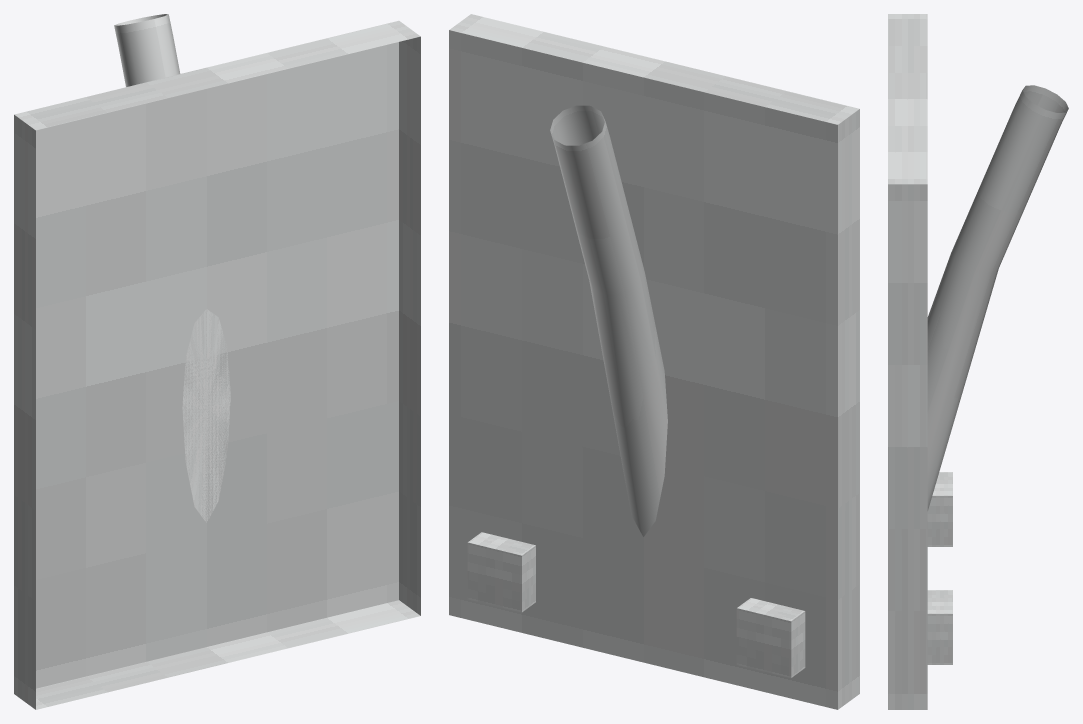
File: luminairearm_laupsweep8ft_c1_wall.obj
3 renders of one model, left to right at view 1: azimuth 30°, elevation 25°; view 2: azimuth 150°, elevation 25°; view 3: azimuth 270°, elevation 25°, orthographic. The views are drawn at different scales.
Visible parts, largest first — view 1: luminairearm_laupsweep8ft_c1_wall; view 2: luminairearm_laupsweep8ft_c1_wall; view 3: luminairearm_laupsweep8ft_c1_wall.
Boxes of the visible parts, box(x1,y1,x2,y2) form: luminairearm_laupsweep8ft_c1_wall: box(14, 14, 420, 709); luminairearm_laupsweep8ft_c1_wall: box(449, 14, 859, 709); luminairearm_laupsweep8ft_c1_wall: box(888, 14, 1068, 709).
Size of the model in its own units: 0.4471 by 0.6544 by 0.2005.
